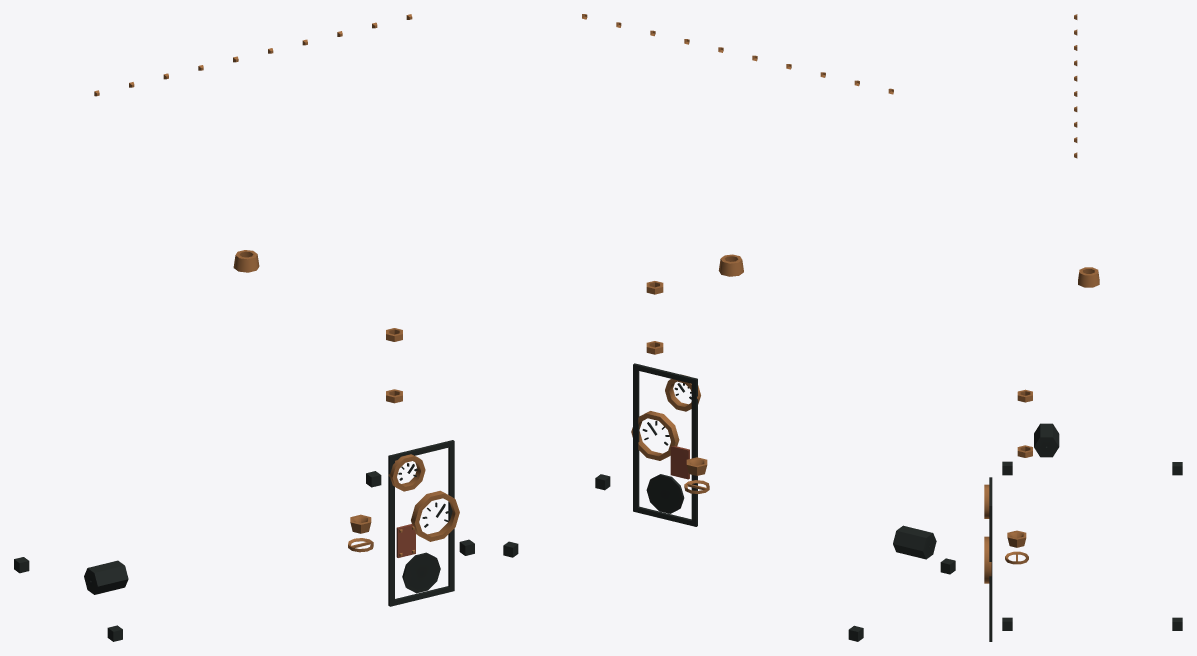
File: trebuchet_launcher_detail2.glb
The picture shows the model from 3 angles, left to right: view 1: azimuth 30°, elevation 25°; view 2: azimuth 150°, elevation 25°; view 3: azimuth 270°, elevation 25°; orthographic projection. The views are drawn at different scales.
Visible parts, largest first — view 1: Detail2; view 2: Detail2; view 3: Detail2.
Boxes of the visible parts, x1,y1,x2,y2 form: Detail2: [14, 14, 474, 641]; Detail2: [503, 14, 955, 641]; Detail2: [984, 14, 1182, 641].
Size of the model in its own units: 8.95 by 12.79 by 4.69.
